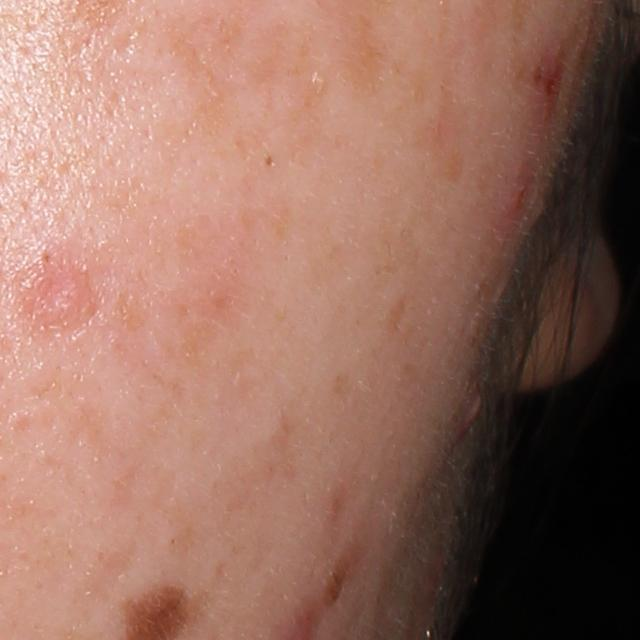melasma: (166, 9, 297, 133)
papule: (498, 170, 531, 228)
